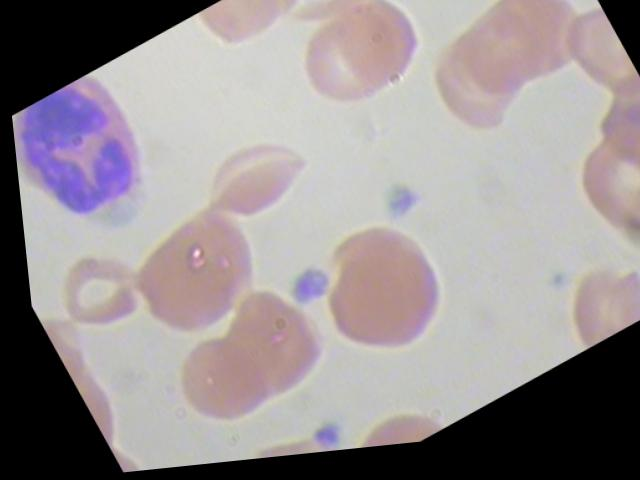Platelets: (6, 59, 177, 253), (265, 258, 333, 324), (361, 178, 428, 241), (293, 418, 344, 458)
Red Blood Cells: (283, 207, 466, 392), (101, 188, 278, 363), (191, 272, 336, 421), (409, 13, 544, 159), (183, 123, 330, 254), (148, 317, 284, 452), (274, 5, 404, 141), (317, 0, 447, 114), (29, 233, 149, 353), (540, 255, 639, 364)
